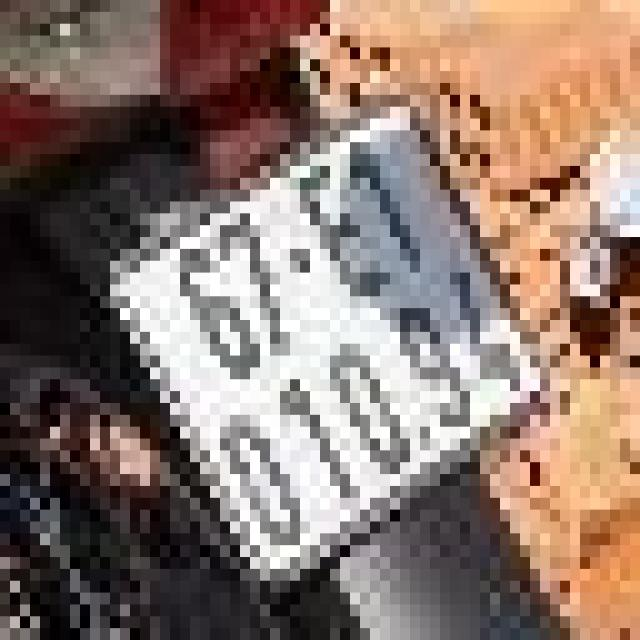0: (202, 397, 326, 560), (317, 321, 431, 492)
1: (329, 120, 450, 284), (264, 361, 379, 517)
4: (435, 242, 540, 411)
6: (158, 232, 273, 395)
7: (201, 198, 321, 377)
9: (372, 280, 494, 453)
E: (278, 145, 414, 321)
